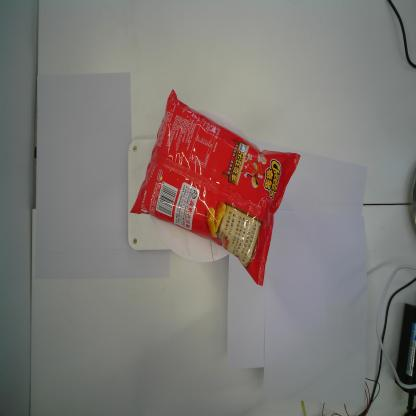Puffed Food: (130, 88, 302, 287)
